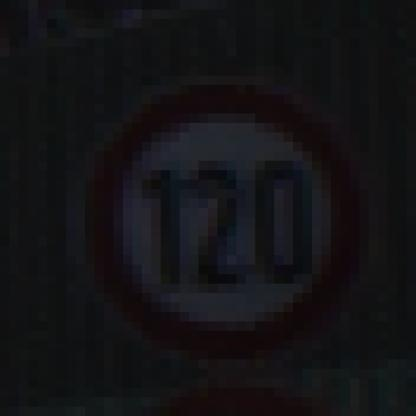Speed Limit 120: (92, 87, 356, 356)
